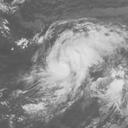cyclone: (14, 17, 124, 120)
